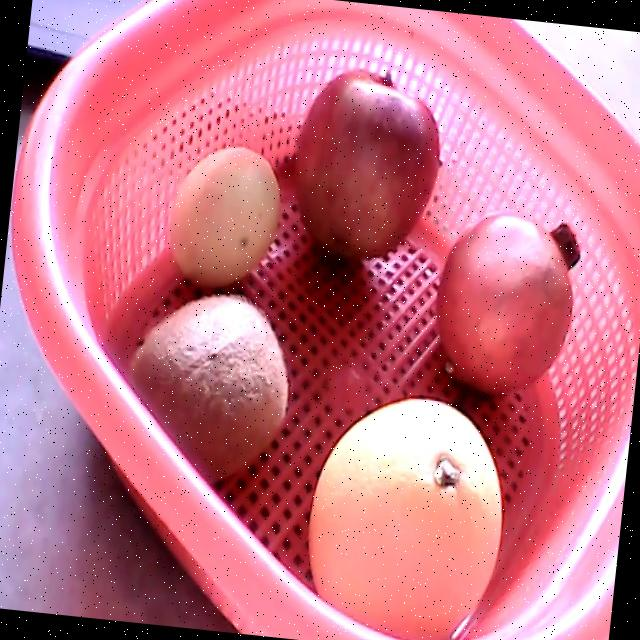apple: (294, 68, 440, 261)
kiwi: (129, 296, 286, 484)
lemon: (166, 146, 279, 288)
orange: (308, 398, 502, 640)
pomegranate: (435, 211, 580, 392)
